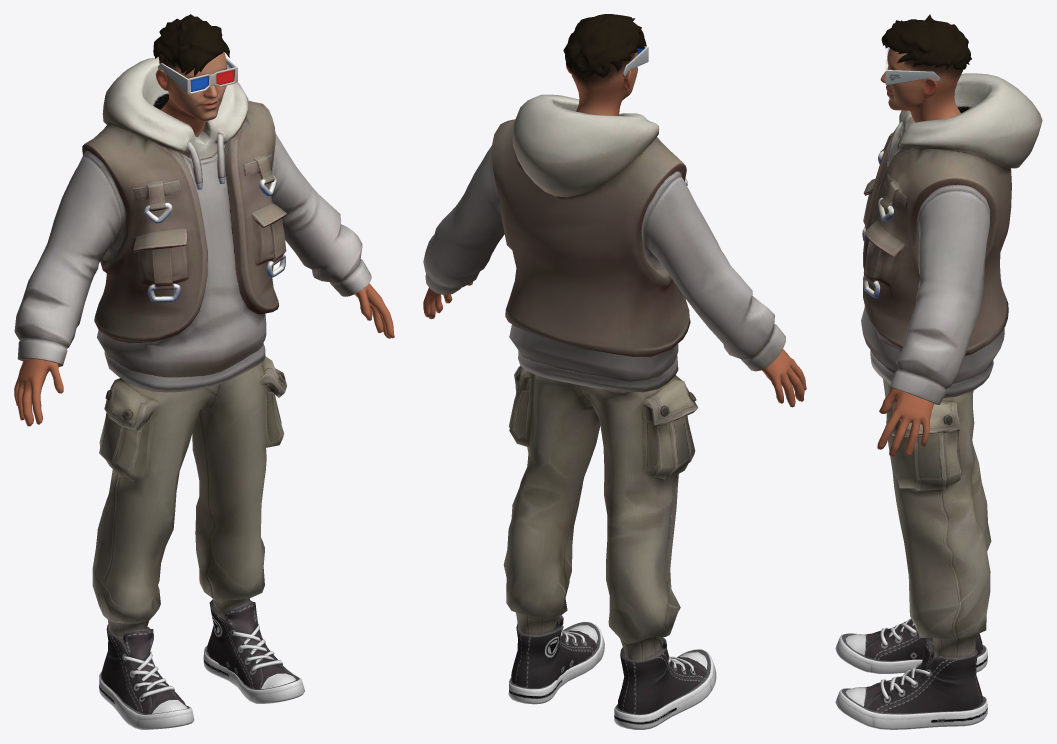
File: avatar.fbx
The picture shows the model from 3 angles, left to right: view 1: azimuth 30°, elevation 25°; view 2: azimuth 150°, elevation 25°; view 3: azimuth 270°, elevation 25°; orthographic projection.
Visible parts, largest first — view 1: Wolf3D_Outfit_Top, Wolf3D_Outfit_Bottom, Wolf3D_Outfit_Footwear, Wolf3D_Body, Wolf3D_Hair, Wolf3D_Head, Wolf3D_Glasses; view 2: Wolf3D_Outfit_Top, Wolf3D_Outfit_Bottom, Wolf3D_Outfit_Footwear, Wolf3D_Hair, Wolf3D_Head, Wolf3D_Body; view 3: Wolf3D_Outfit_Top, Wolf3D_Outfit_Bottom, Wolf3D_Outfit_Footwear, Wolf3D_Hair, Wolf3D_Head, Wolf3D_Body, Wolf3D_Glasses.
Boxes of the visible parts, <box> form: Wolf3D_Outfit_Top: <box>14,57,371,392</box>; Wolf3D_Outfit_Bottom: <box>92,356,286,637</box>; Wolf3D_Outfit_Footwear: <box>99,599,304,729</box>; Wolf3D_Body: <box>14,283,394,426</box>; Wolf3D_Hair: <box>153,14,229,76</box>; Wolf3D_Head: <box>155,51,226,137</box>; Wolf3D_Glasses: <box>158,57,237,93</box>; Wolf3D_Outfit_Top: <box>423,94,785,392</box>; Wolf3D_Outfit_Bottom: <box>503,366,697,661</box>; Wolf3D_Outfit_Footwear: <box>508,615,716,729</box>; Wolf3D_Hair: <box>563,14,646,77</box>; Wolf3D_Head: <box>566,52,637,115</box>; Wolf3D_Body: <box>423,281,806,407</box>; Wolf3D_Outfit_Top: <box>861,73,1042,404</box>; Wolf3D_Outfit_Bottom: <box>883,379,991,657</box>; Wolf3D_Outfit_Footwear: <box>835,618,987,729</box>; Wolf3D_Hair: <box>881,14,971,69</box>; Wolf3D_Head: <box>880,48,962,122</box>; Wolf3D_Body: <box>877,388,933,457</box>; Wolf3D_Glasses: <box>885,47,940,84</box>.
Bounding box in the file's own units: 1.06 × 1.86 × 0.5196.
9 materials, 9 textured.
